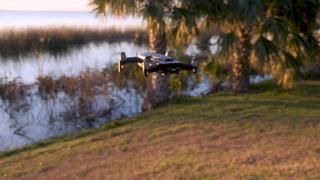UAV: (116, 50, 198, 78)
